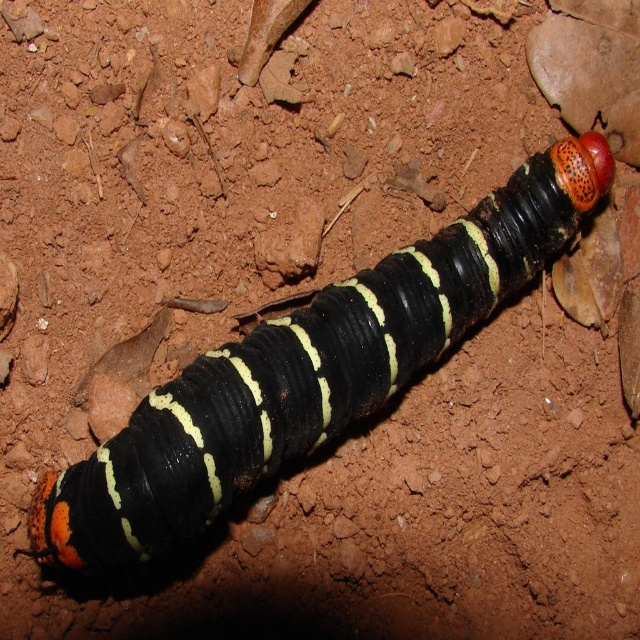Caterpillar: (10, 103, 620, 600)
